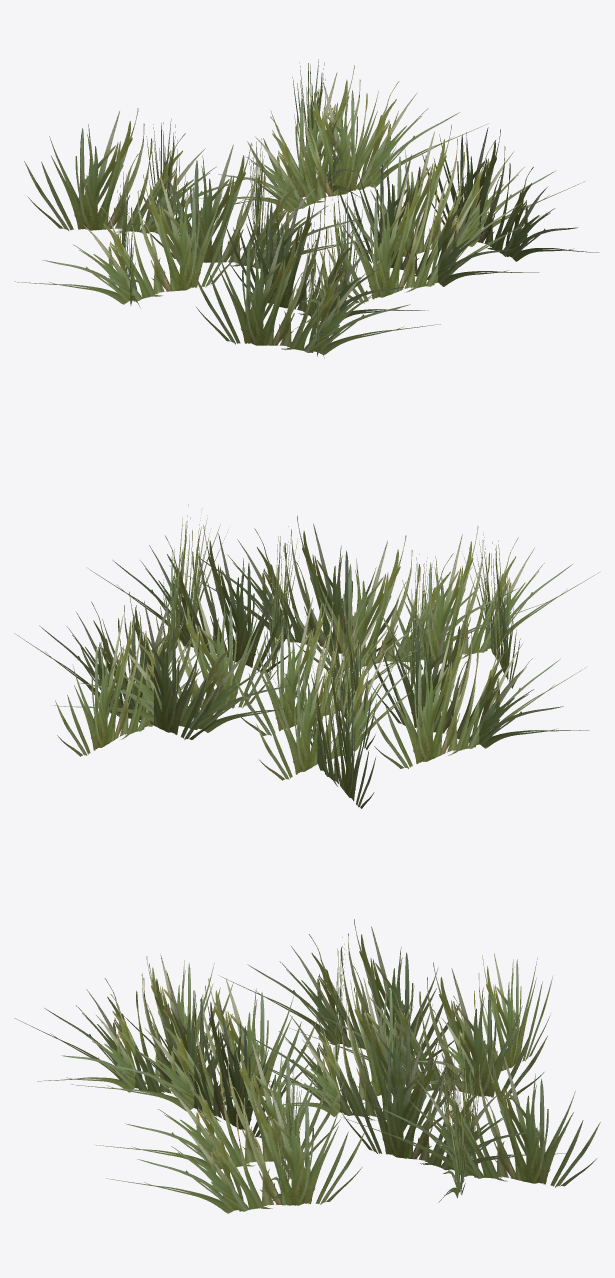
The model's file is grass object.fbx.
3 views of the same model, one above another, from view 1: azimuth 30°, elevation 25°; view 2: azimuth 150°, elevation 25°; view 3: azimuth 270°, elevation 25° (orthographic). The views are drawn at different scales.
Parts seen in each view (by area): view 1: pngwave (1); view 2: pngwave (1); view 3: pngwave (1).
Boxes of the visible parts, x1=… form: pngwave (1): x1=14, y1=59, x2=599, y2=358; pngwave (1): x1=14, y1=504, x2=600, y2=808; pngwave (1): x1=14, y1=919, x2=600, y2=1213.
Bounding box in the file's own units: 174 × 40.89 × 160.
